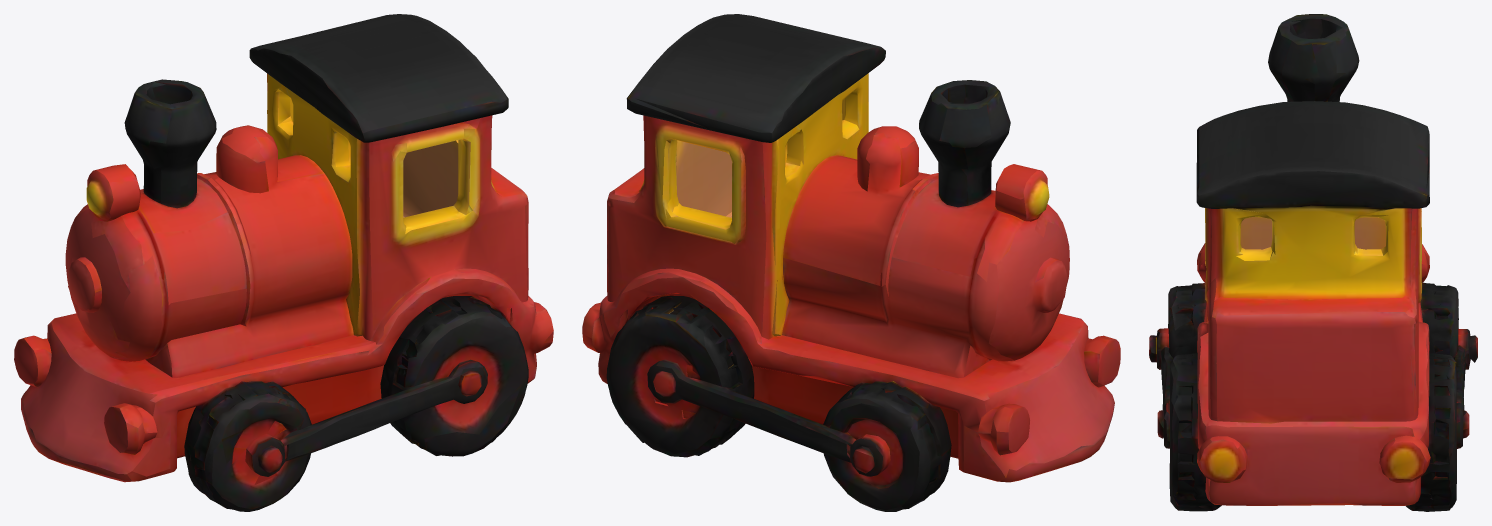
File: x-trainset.glb
3 renders of one model, left to right at view 1: azimuth 30°, elevation 25°; view 2: azimuth 150°, elevation 25°; view 3: azimuth 270°, elevation 25°, orthographic.
Visible parts, largest first — view 1: geometry_0; view 2: geometry_0; view 3: geometry_0.
Part boxes in pixels (box(x1,y1,x2,y2)): geometry_0: box(14, 14, 553, 511); geometry_0: box(582, 14, 1120, 511); geometry_0: box(1149, 14, 1477, 511).
Bounding box in the file's own units: 0.12 × 0.0934 × 0.075.
1 material, 1 textured.
